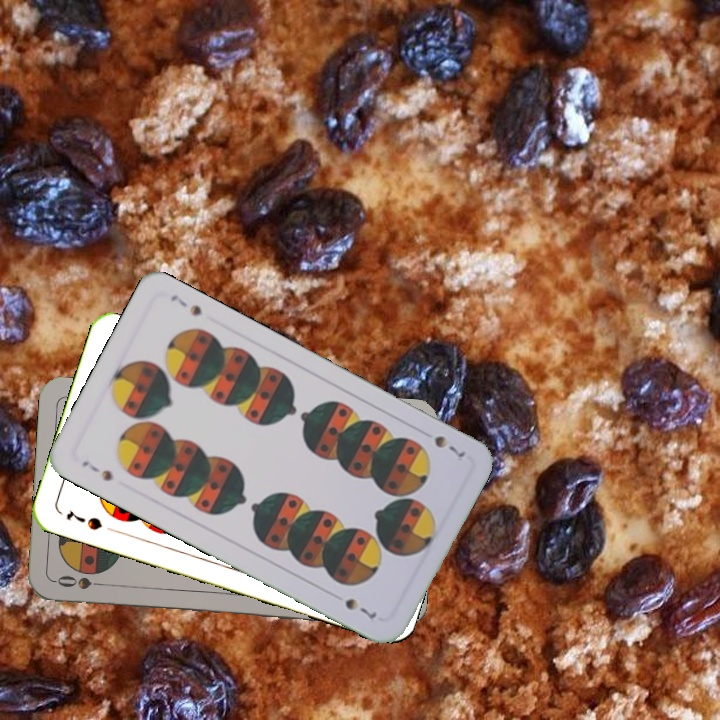S7: (430, 431, 468, 464), (62, 506, 105, 533), (77, 456, 116, 484)
SO: (52, 571, 111, 592)
